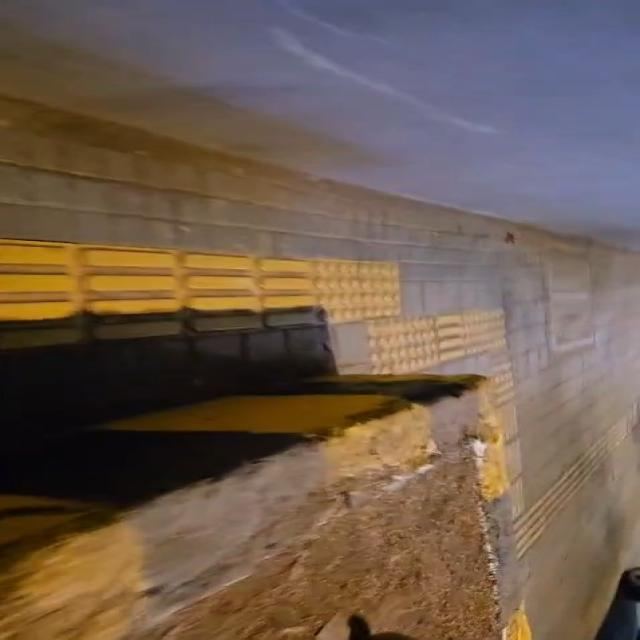auto: (2, 374, 533, 638)
